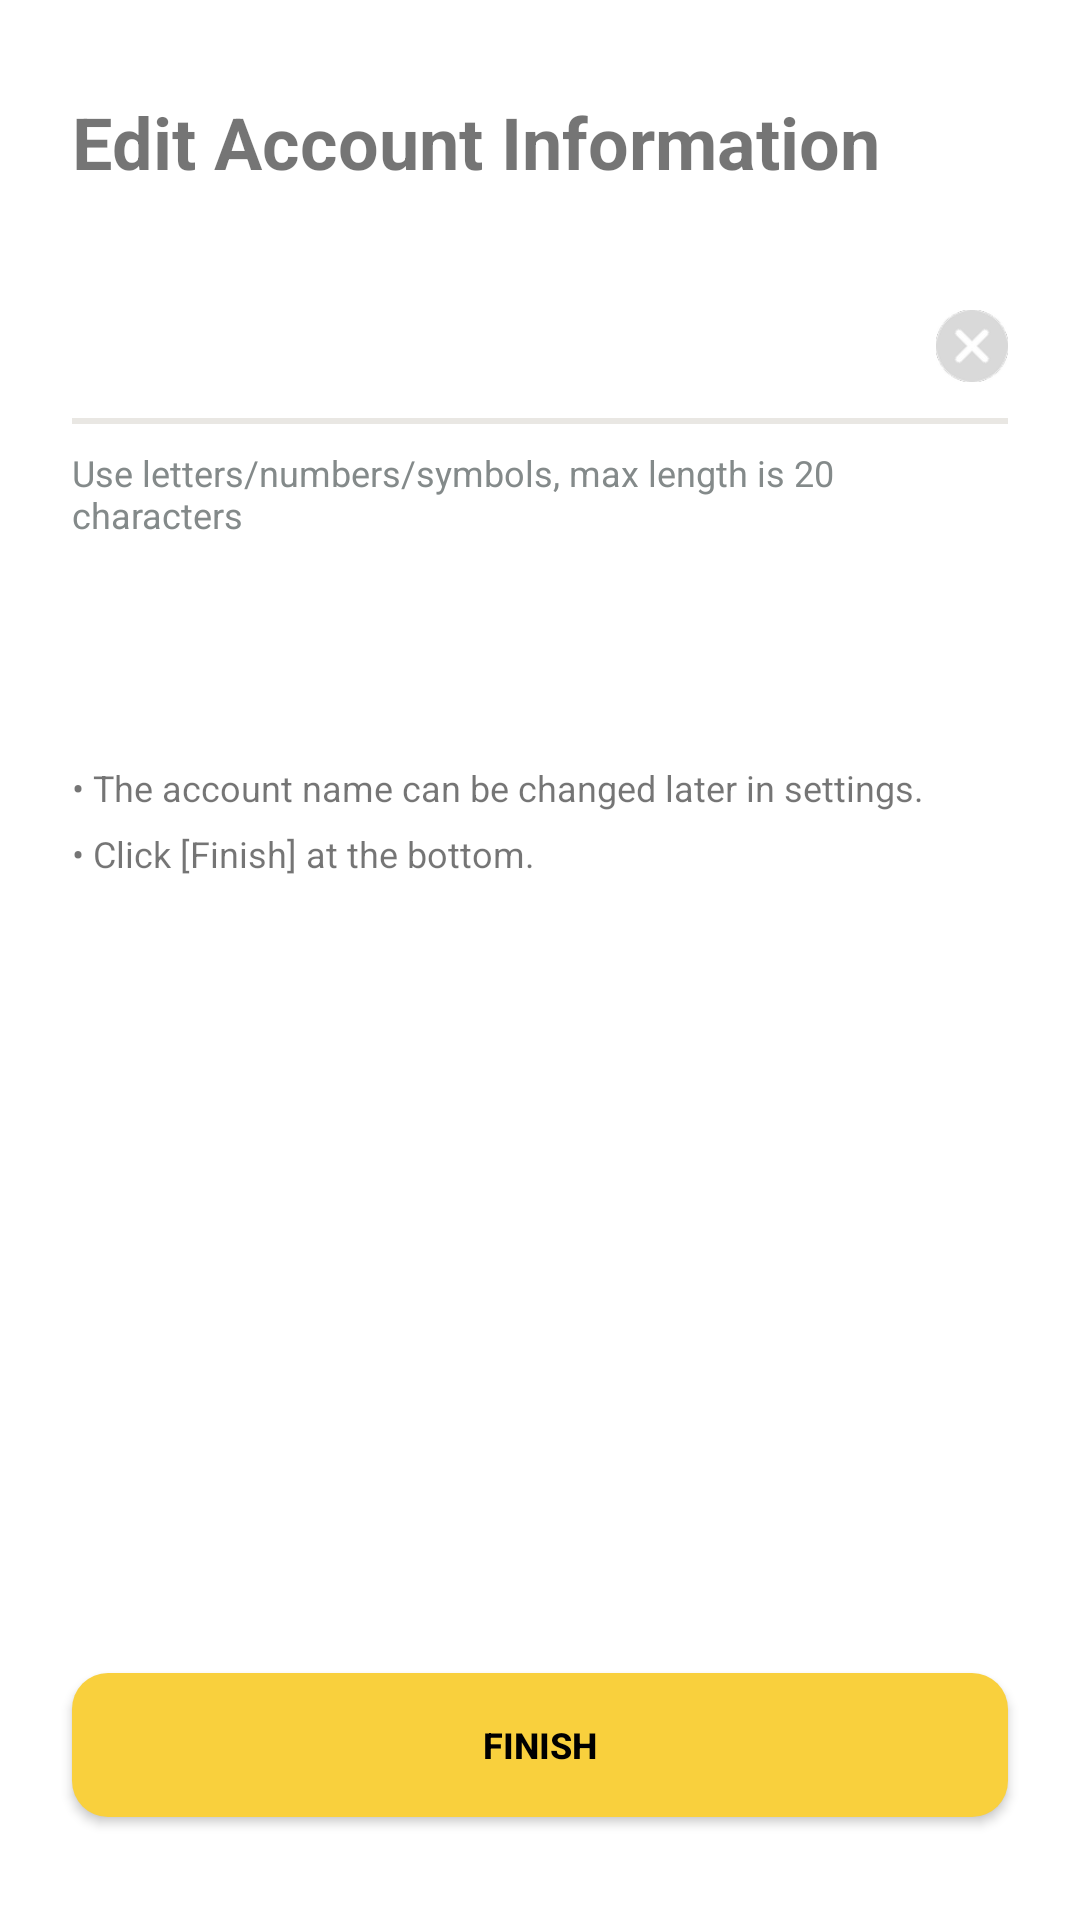

Where icons sit on this 1080*1920 app screen, as (left=x1, top=y1, right=x2, bottom=y2):
edit delete: (left=936, top=310, right=1008, bottom=382)
